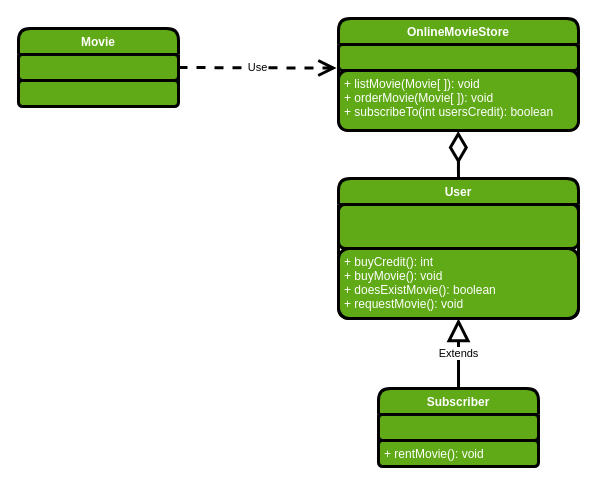
This 597x487 diagram has some shape labels left out. Here are the shapes that lost their labels. From the top down, the centre of each, then its label:
the point at 458,57: + isSubscribe: boolean
the point at 458,226: + credit: int + myMovies[ ] : Movie
